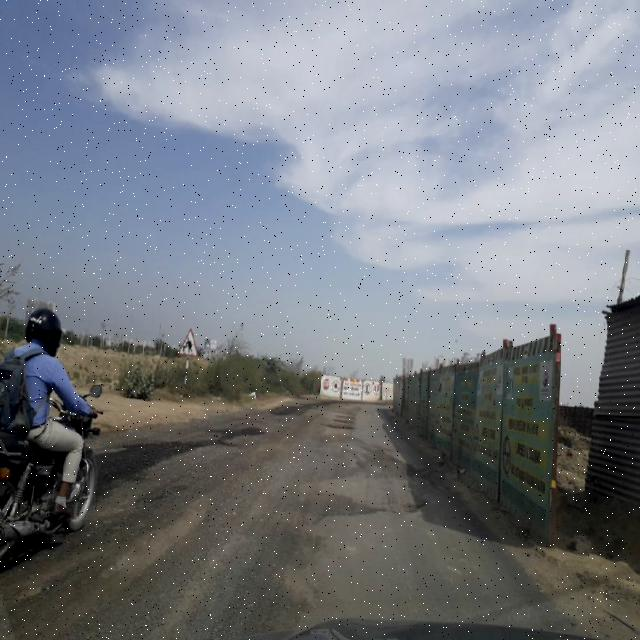D40: (0, 402, 335, 639), (308, 423, 431, 478), (304, 488, 389, 526)
